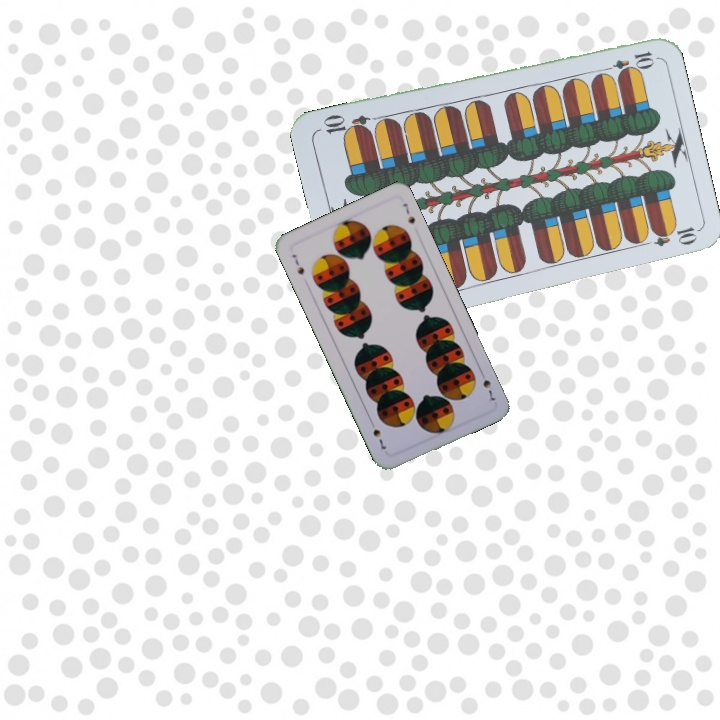E10: (598, 47, 657, 76)
S7: (476, 366, 498, 404), (288, 250, 307, 277)
